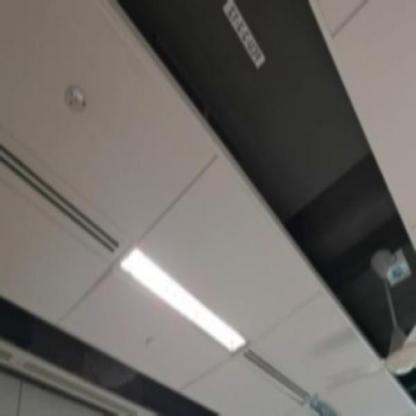light_on: (111, 231, 250, 362)
